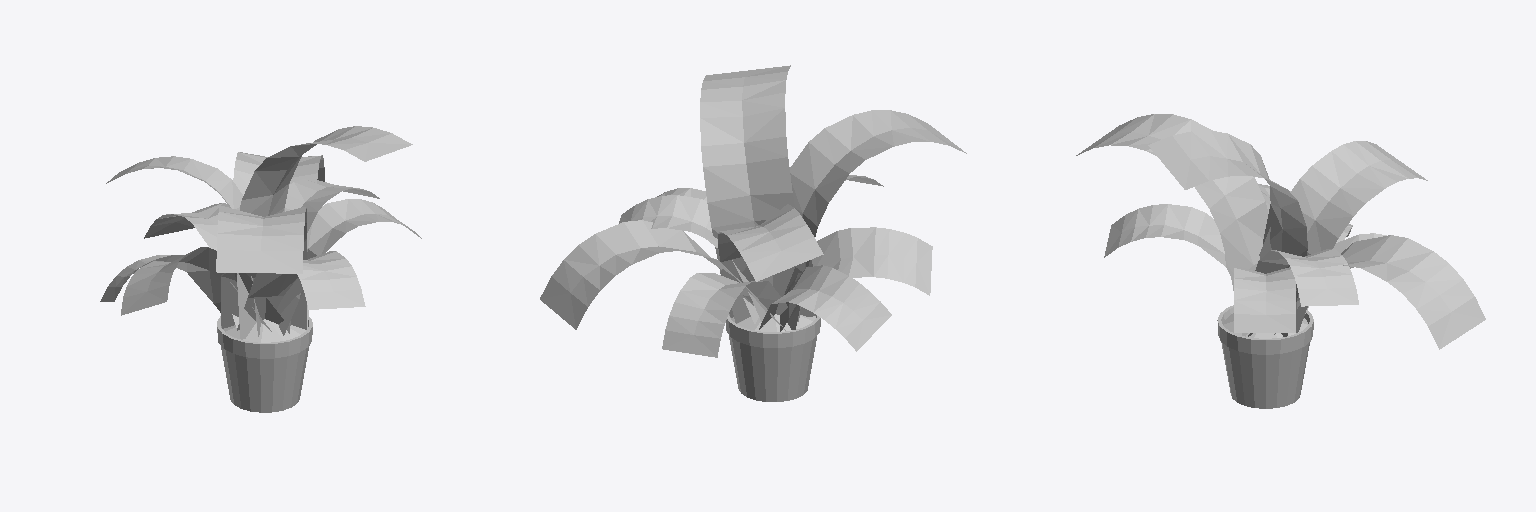
Rendered from plant.obj.
3 views of the same model, side by side, from view 1: azimuth 30°, elevation 25°; view 2: azimuth 150°, elevation 25°; view 3: azimuth 270°, elevation 25° (orthographic).
Visible parts, largest first — view 1: plant:polySurface8; view 2: plant:polySurface8; view 3: plant:polySurface8.
Part boxes in pixels (bbox=[...]): plant:polySurface8: bbox=[100, 126, 421, 412]; plant:polySurface8: bbox=[540, 65, 966, 401]; plant:polySurface8: bbox=[1076, 114, 1485, 408].
Bounding box in the file's own units: 2.85 × 2.51 × 3.42.